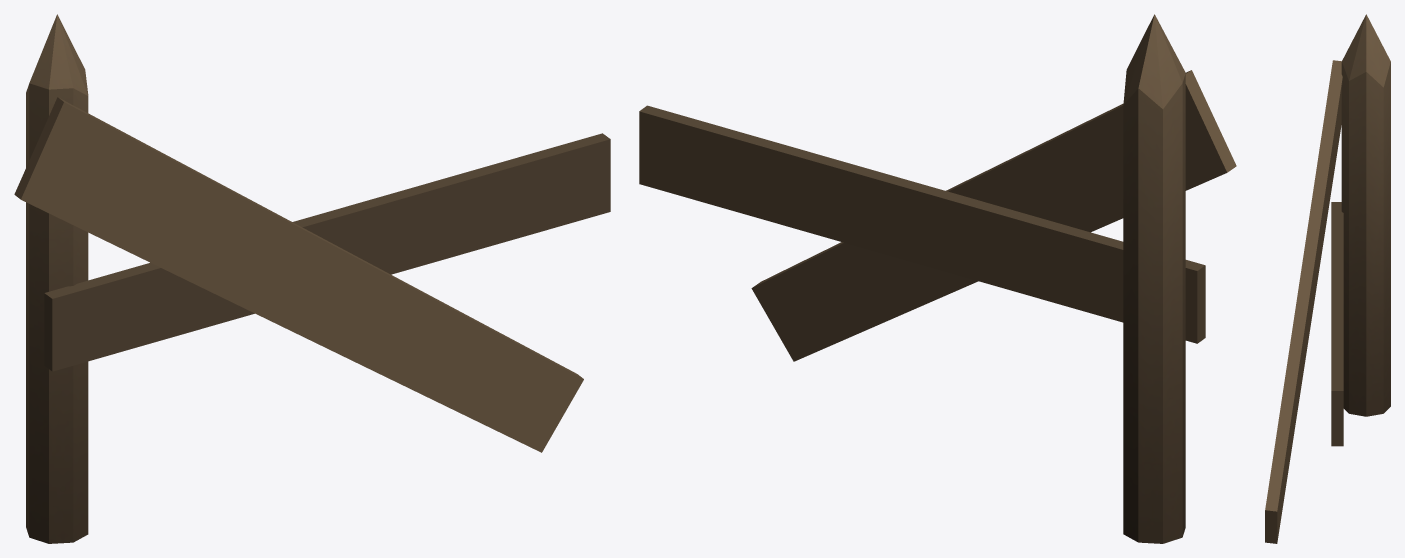
File: ZLP_Build_D_23.FBX
3 renders of one model, left to right at view 1: azimuth 30°, elevation 25°; view 2: azimuth 150°, elevation 25°; view 3: azimuth 270°, elevation 25°, orthographic. The views are drawn at different scales.
Visible parts, largest first — view 1: ZLP_Build_D_23; view 2: ZLP_Build_D_23; view 3: ZLP_Build_D_23.
Boxes of the visible parts, bbox=[...] form: ZLP_Build_D_23: bbox=[14, 14, 610, 543]; ZLP_Build_D_23: bbox=[639, 14, 1236, 543]; ZLP_Build_D_23: bbox=[1265, 14, 1390, 543].
Size of the model in its own units: 94.79 by 79.38 by 23.06.
